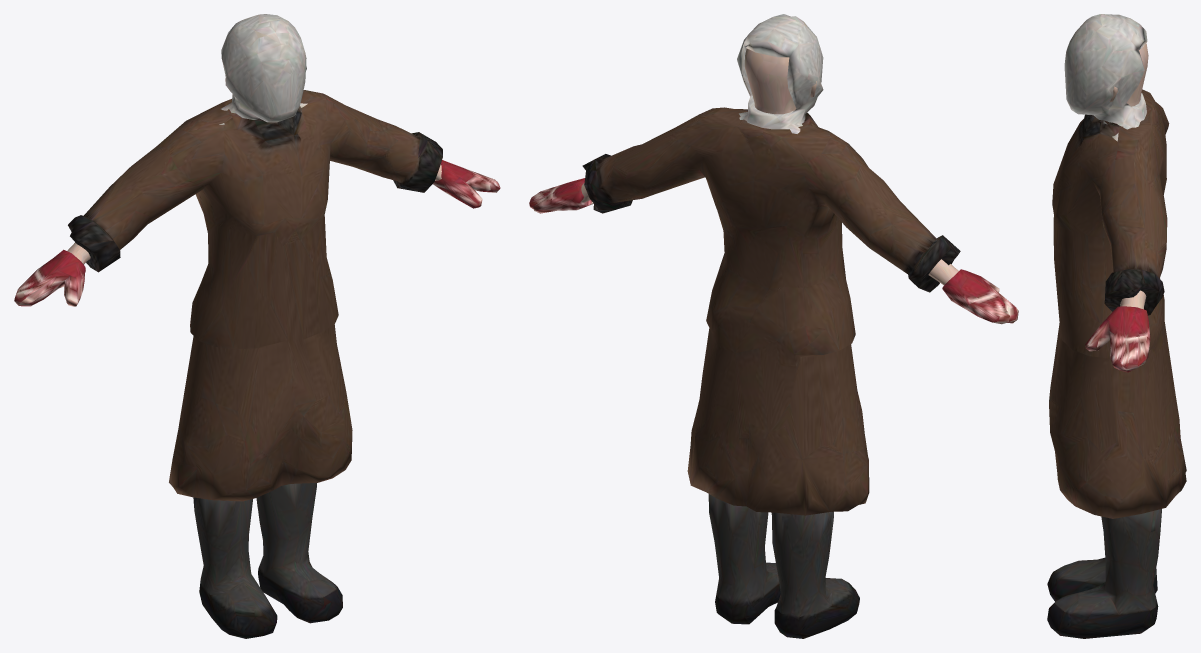
Rendered from npc_x_grandma_w1.glb.
3 renders of one model, left to right at view 1: azimuth 30°, elevation 25°; view 2: azimuth 150°, elevation 25°; view 3: azimuth 270°, elevation 25°, orthographic.
Parts seen in each view (by area): view 1: Human; view 2: Human; view 3: Human.
Boxes of the visible parts, x1,y1,x2,y2 form: Human: (14,14,500,638); Human: (529,14,1018,638); Human: (1047,14,1186,638).
Size of the model in its own units: 1.41 by 1.64 by 0.3503.
1 material, 1 textured.
